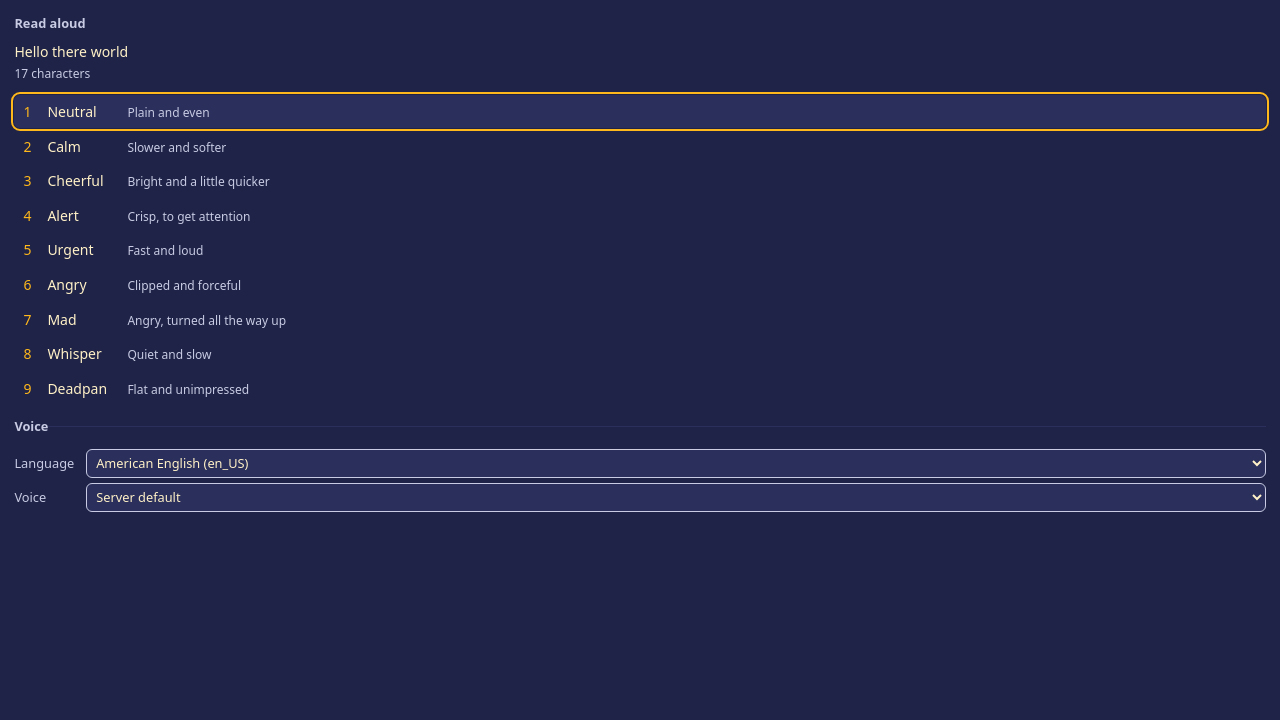
Scenario: ReadAloudPanel with a selection › chooses a mood by click
Click the menu item "2 Calm Slower and softer" at (64, 146), box 14,130 -> 1266,162
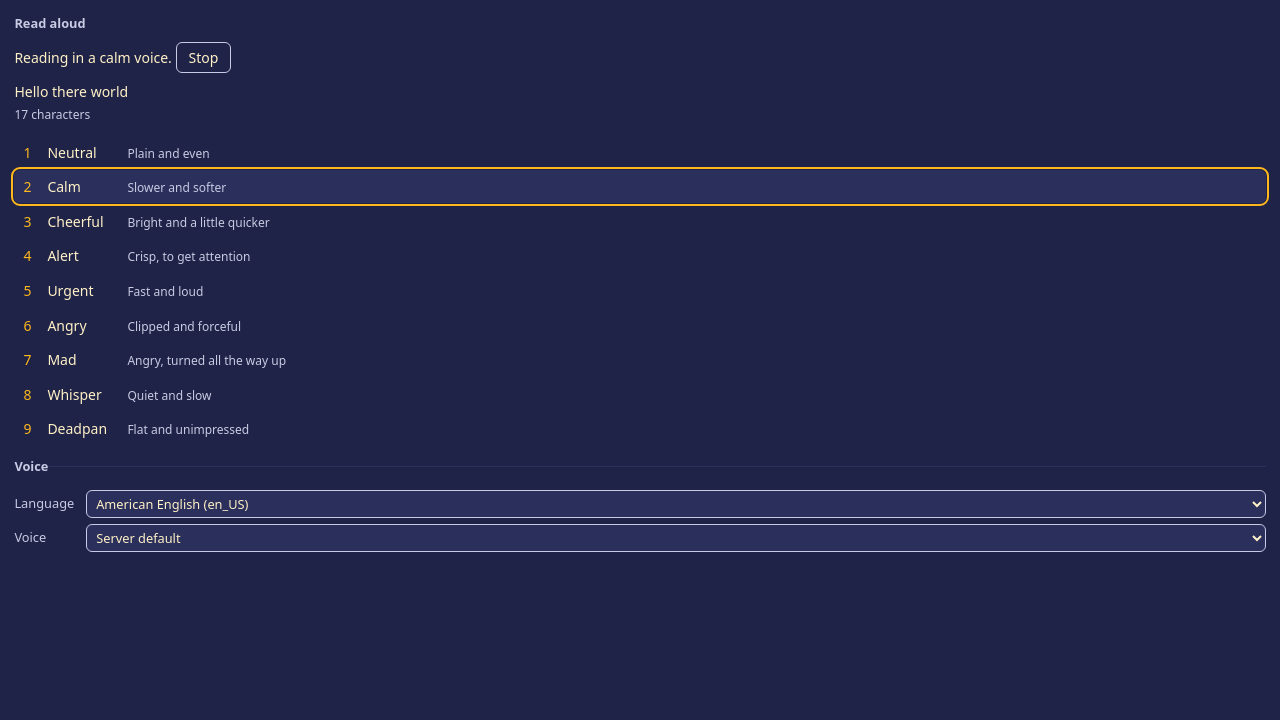
expect the message reads "Reading in a calm voice. Stop": met, box 14,42 -> 231,73
expect the button "Stop" is shown: met, box 176,42 -> 231,73
